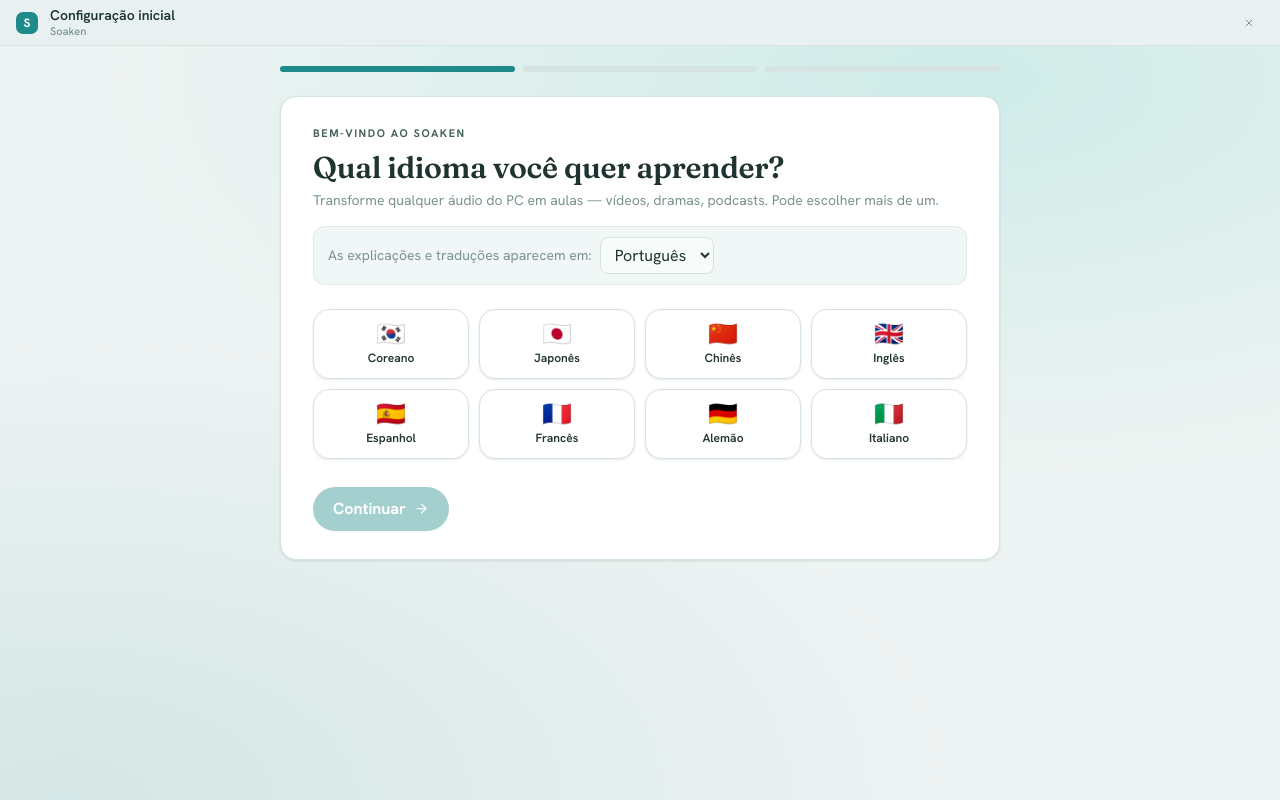
Test: Onboarding — seleção de idioma (multi) › clicar de novo desmarca o idioma e some o seletor
Click the button "🇰🇷 Coreano" at (391, 344), box [313,308,469,378]
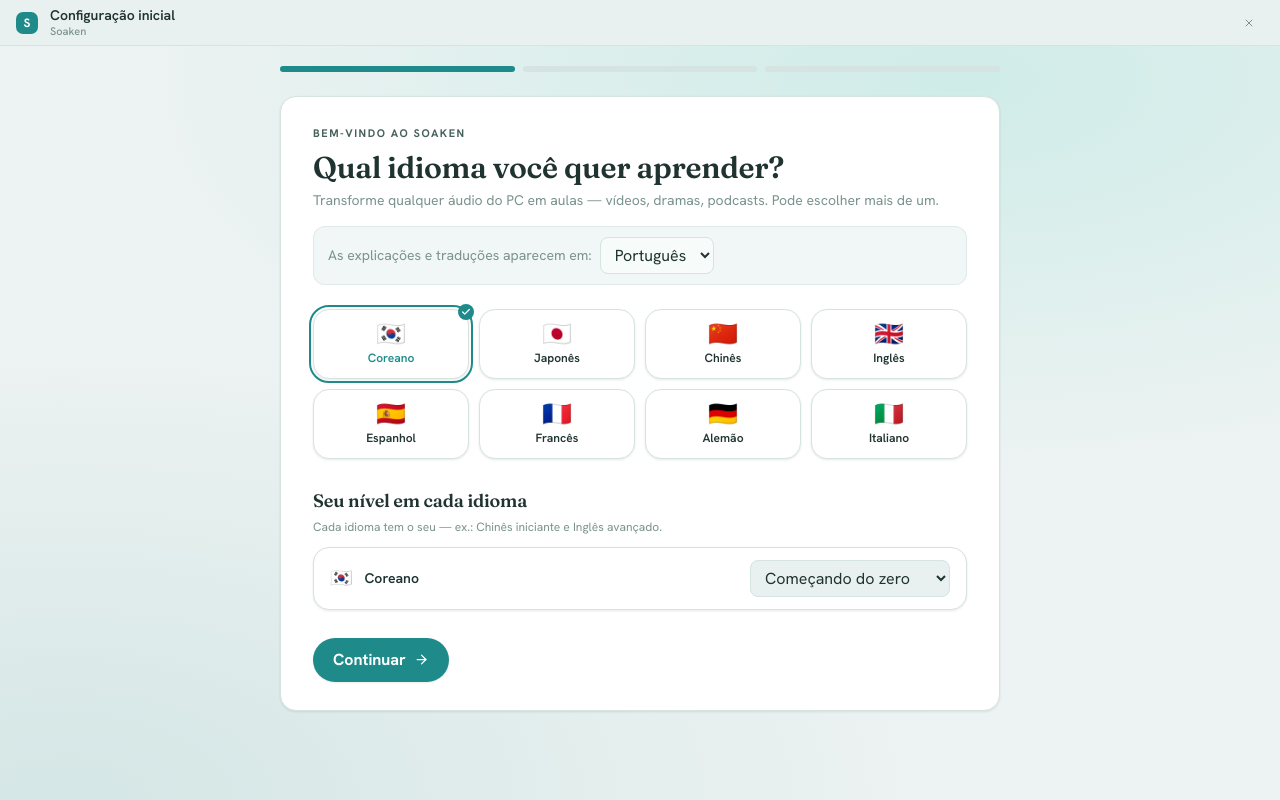
Expected: the dropdown named "Nível em Coreano" is shown, [750,560,950,596]
Click the button "🇰🇷 Coreano" at (391, 344), box [313,308,469,378]
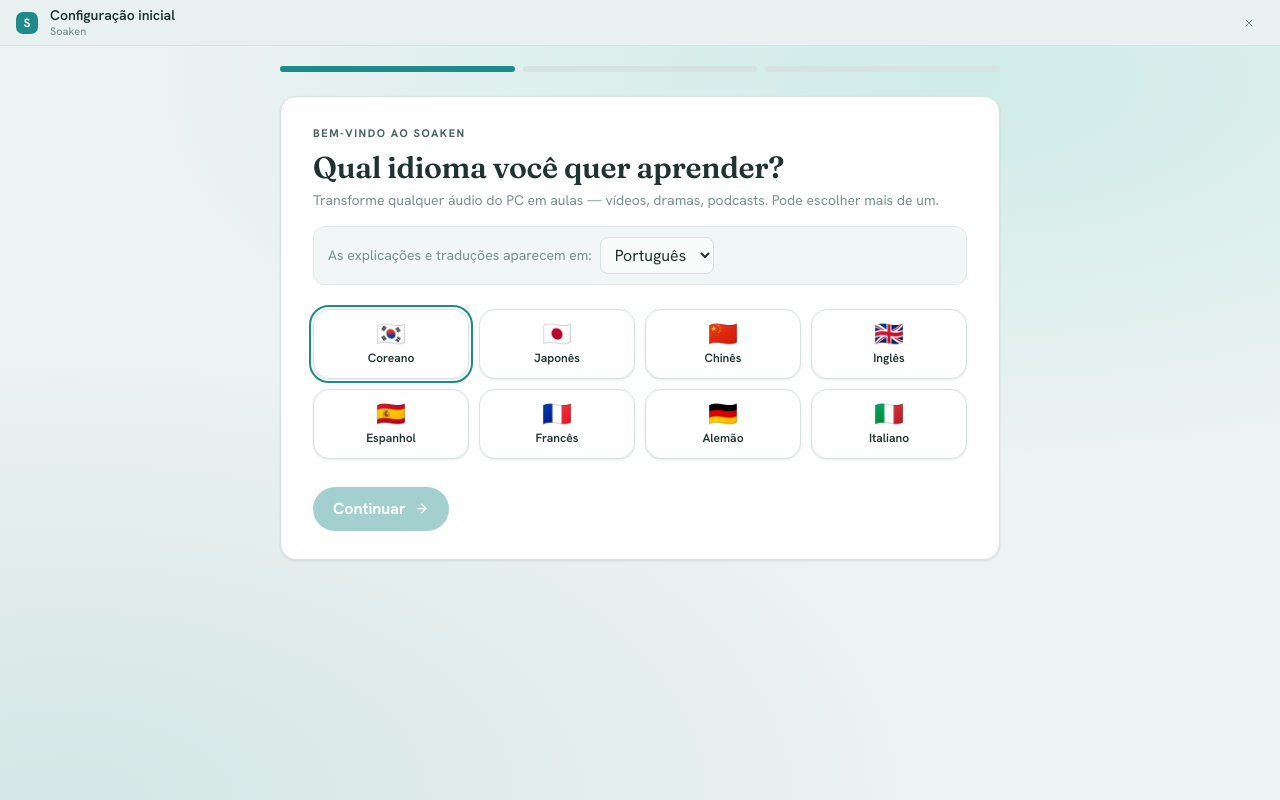
Expected: the button "Continuar" is disabled, [313,486,449,530]
